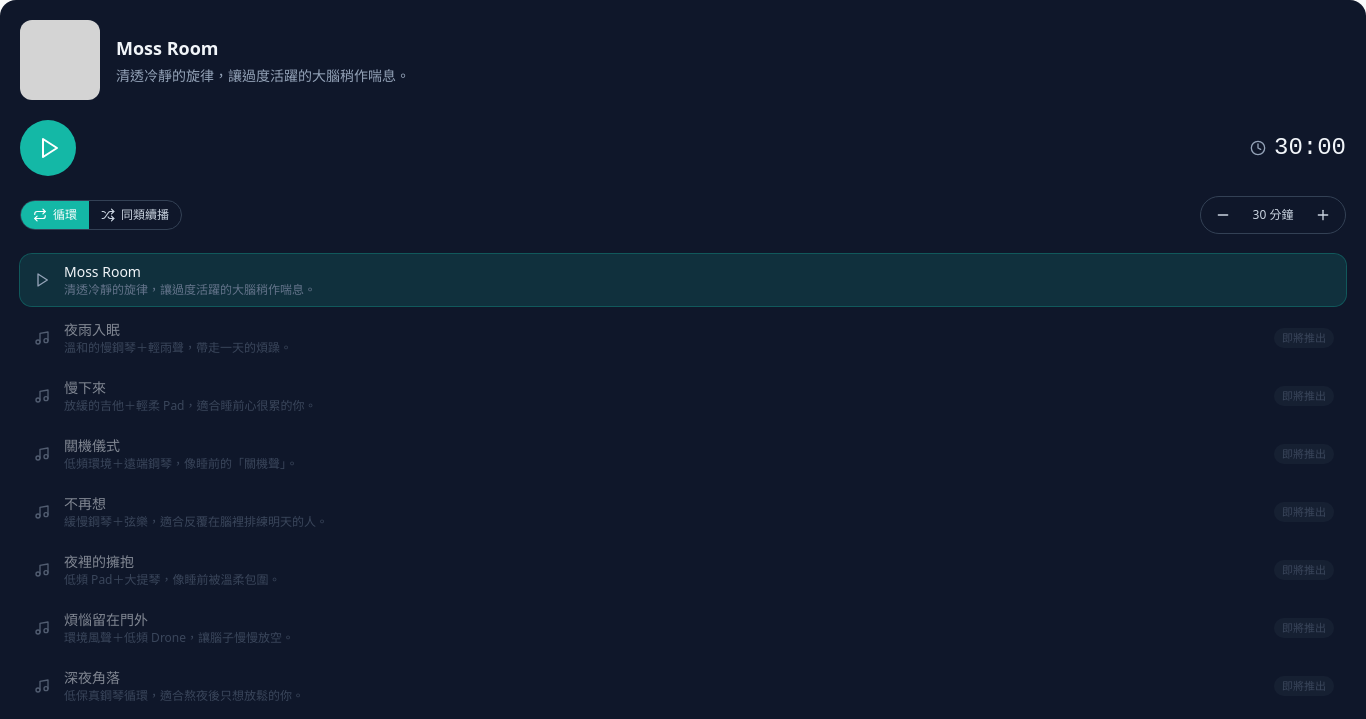
it: MusicTool — session length stepper › ± sets the intended session length (5–120), not the live clock
expect the text "30 分鐘" is shown: met, box [1253,206,1294,223]
Click the button named "增加時間" at (1323,215), box [1309,201,1337,229]
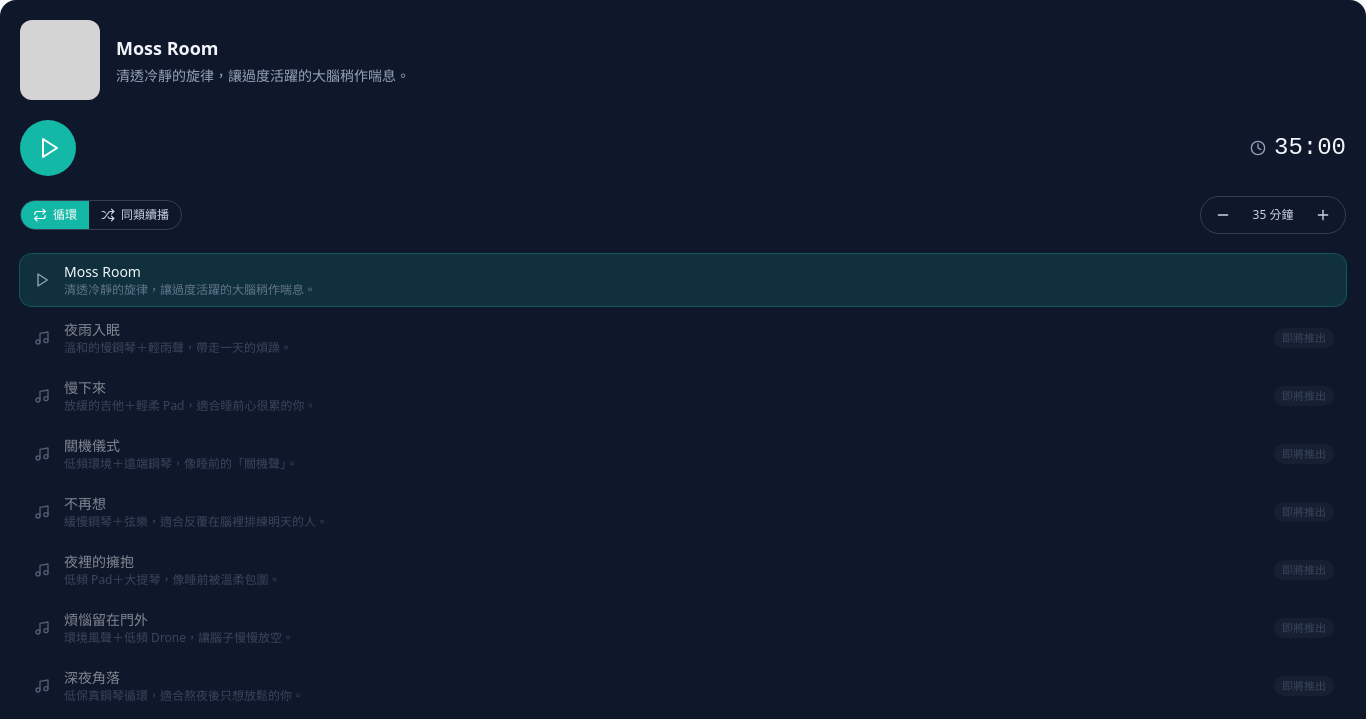
expect the text "35 分鐘" is shown: met, box [1253,206,1294,223]
Click the button named "減少時間" at (1223,215), box [1209,201,1237,229]
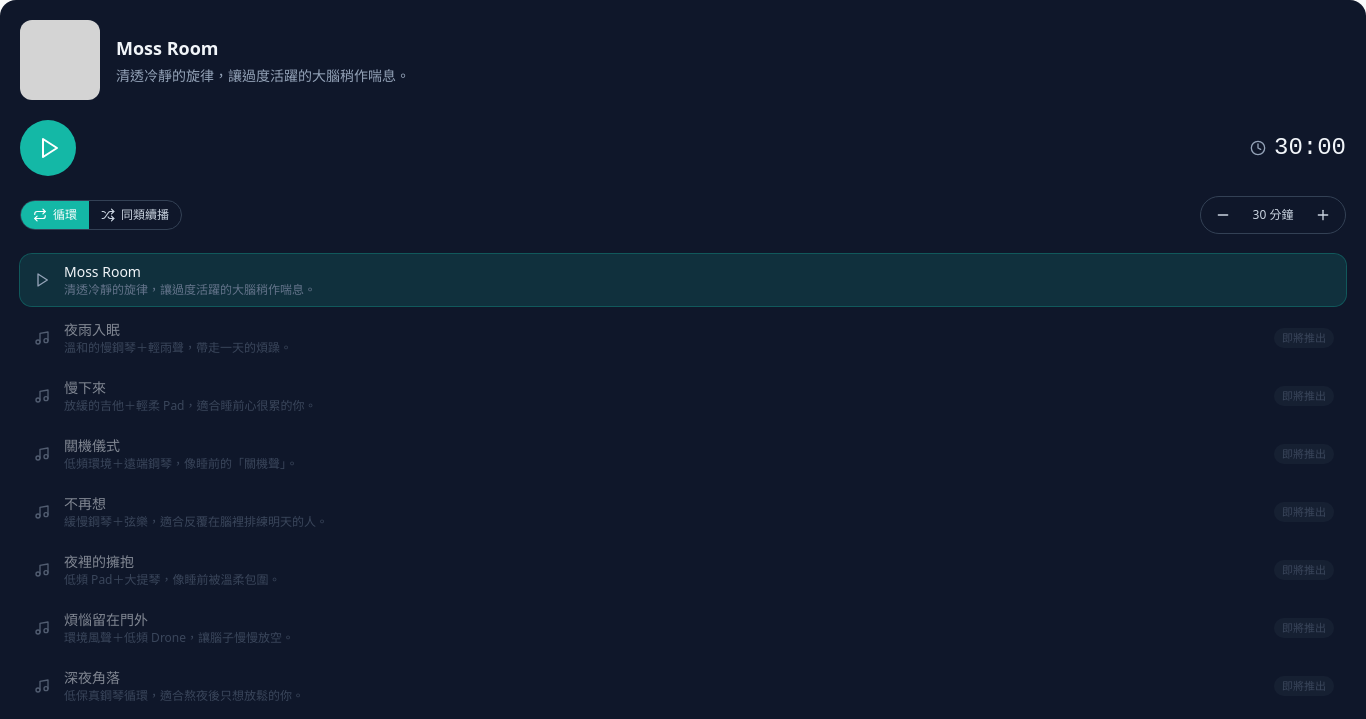
expect the text "30 分鐘" is shown: met, box [1253,206,1294,223]
